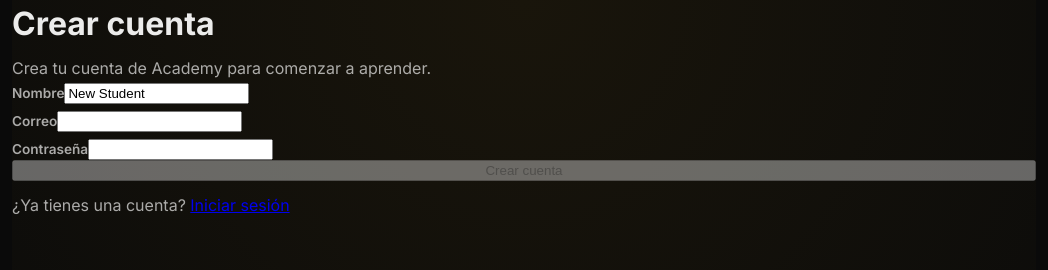
Test: SignupForm › shows generic message for network failures
Type "new@academy.local" into the field labelled "Correo" at [150, 122], box [57, 111, 242, 132]
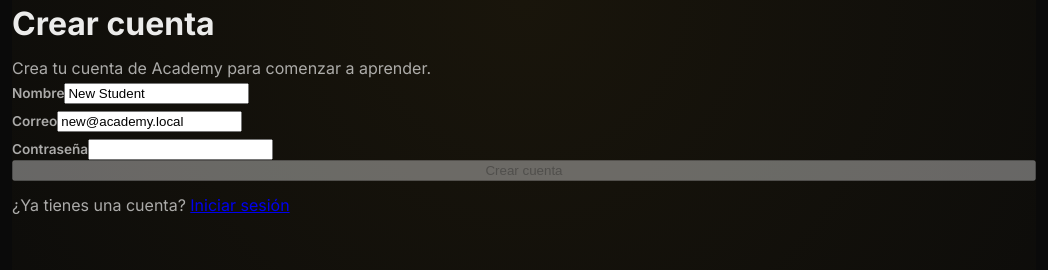
Type "password123" into the password field labelled "Contraseña" at [181, 150], box [88, 139, 273, 160]
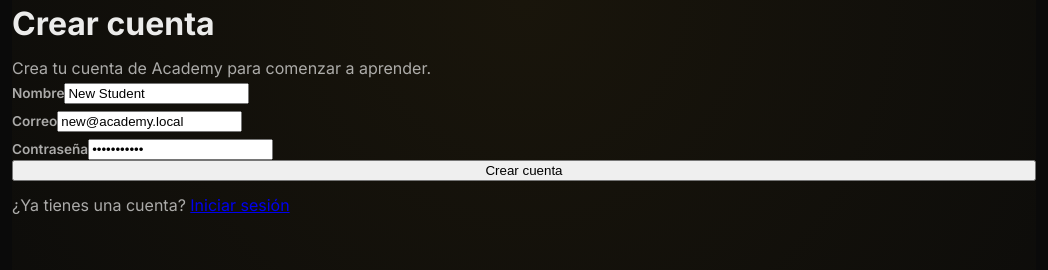
Click the button "Crear cuenta" at [524, 170], box [12, 160, 1036, 181]
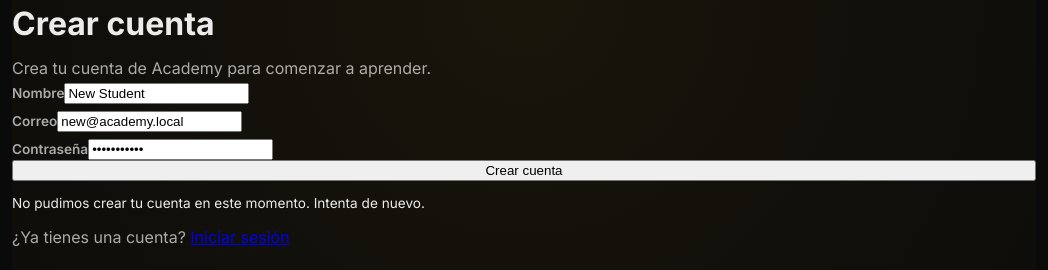
Expected: the text "No pudimos crear tu cuenta en este momento. Intenta de nuevo." is shown, [12, 195, 425, 211]
